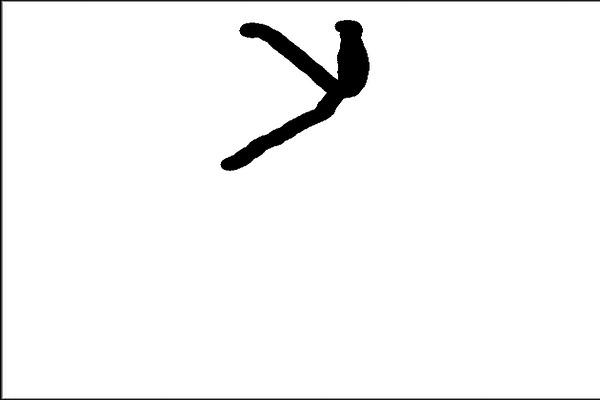Y: (210, 11, 388, 188)
